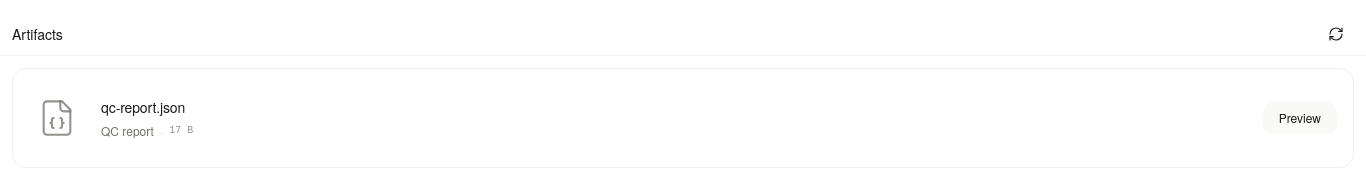
Test case: AgentArtifactsPanel › loads a compact artifact list and previews text inline
expect the element "qc-report.json" shows "QC report": met, box [101,122,154,139]
expect the element "qc-report.json" shows "17 B": met, box [169,125,193,136]
Click the button with aria-label "Preview qc-report.json". click: (1300, 118)
box: [1263,102,1337,134]
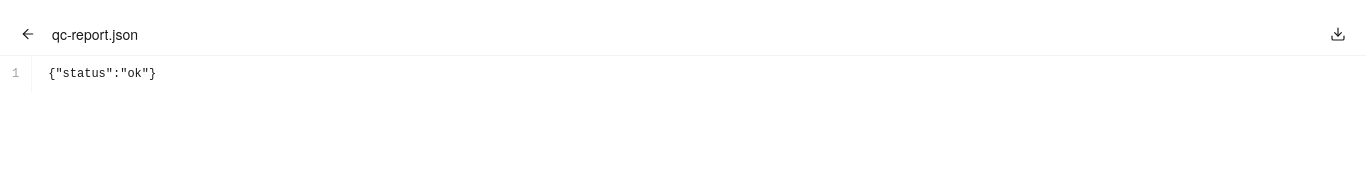
expect the element with test id "workspace-code-preview" shows "{\"status\":\"ok\"}": met, box [48,67,156,81]
expect the button named "Back to artifacts" is shown: met, box [10,16,46,52]
